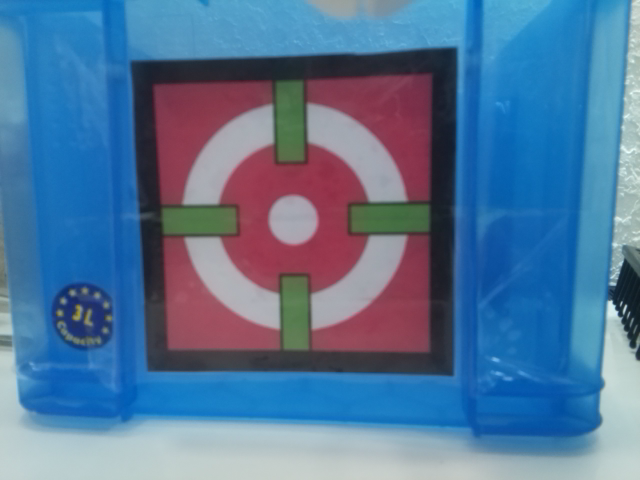drop-bin: (131, 47, 459, 377)
